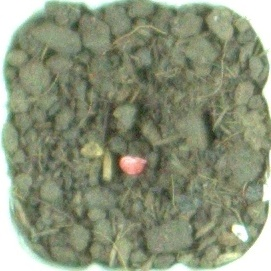pepper seed: (44, 67, 191, 243)
